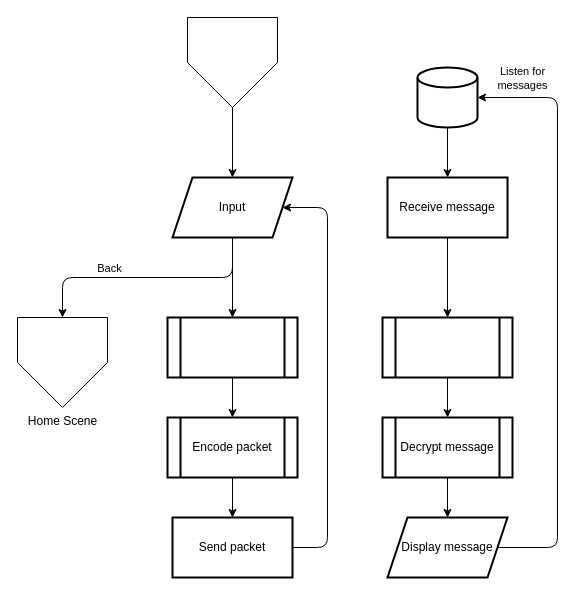
Some shapes in this 583 by 596 pixel diagram are drawn without their labels. Here are the shapes that lost their labels. From the top down, the centre of each, then its label:
At (232,62): "Chat Scene".
At (232,347): "Encrypt message".
At (447,347): "Decode packet".
